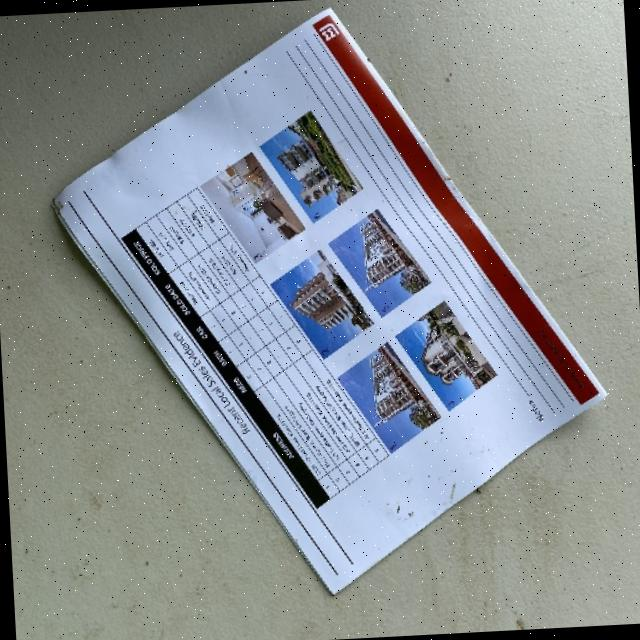paper: (41, 0, 617, 609)
